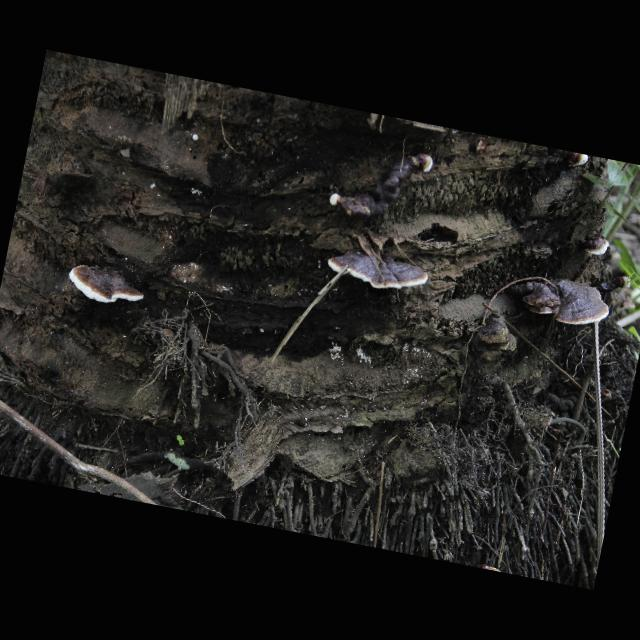ganoderma: (338, 141, 421, 233), (326, 245, 432, 300), (541, 276, 616, 333), (66, 262, 149, 311), (505, 278, 566, 319), (575, 234, 611, 259), (611, 295, 638, 315)
primordium: (565, 153, 589, 172), (419, 154, 436, 175), (614, 275, 633, 291), (330, 194, 343, 209), (193, 135, 200, 143)
